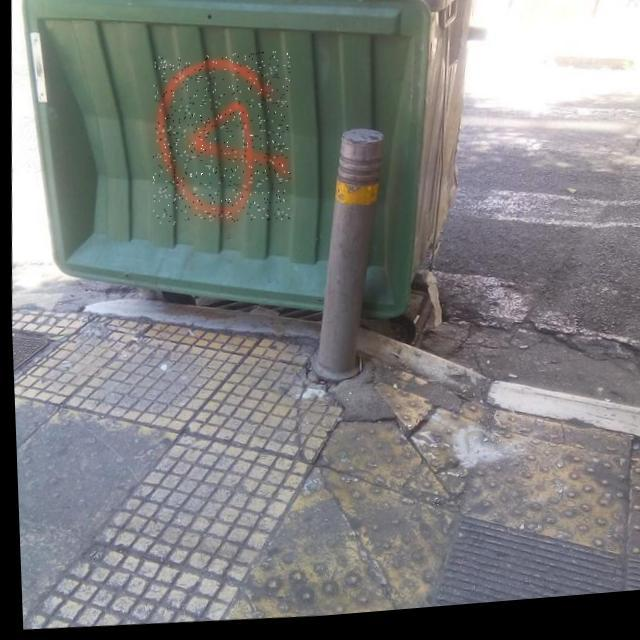-: (146, 50, 294, 232)
